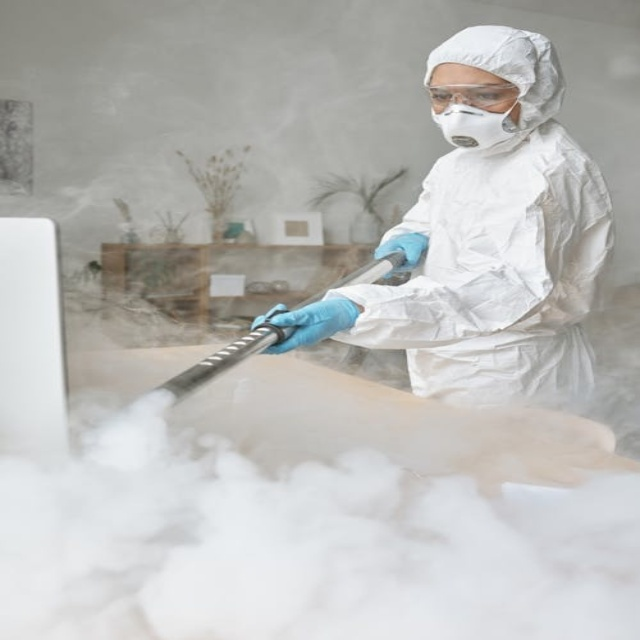Gafas: (426, 84, 521, 110)
Guantes: (253, 296, 361, 353), (374, 231, 430, 277)
Mascara: (434, 97, 525, 152)
